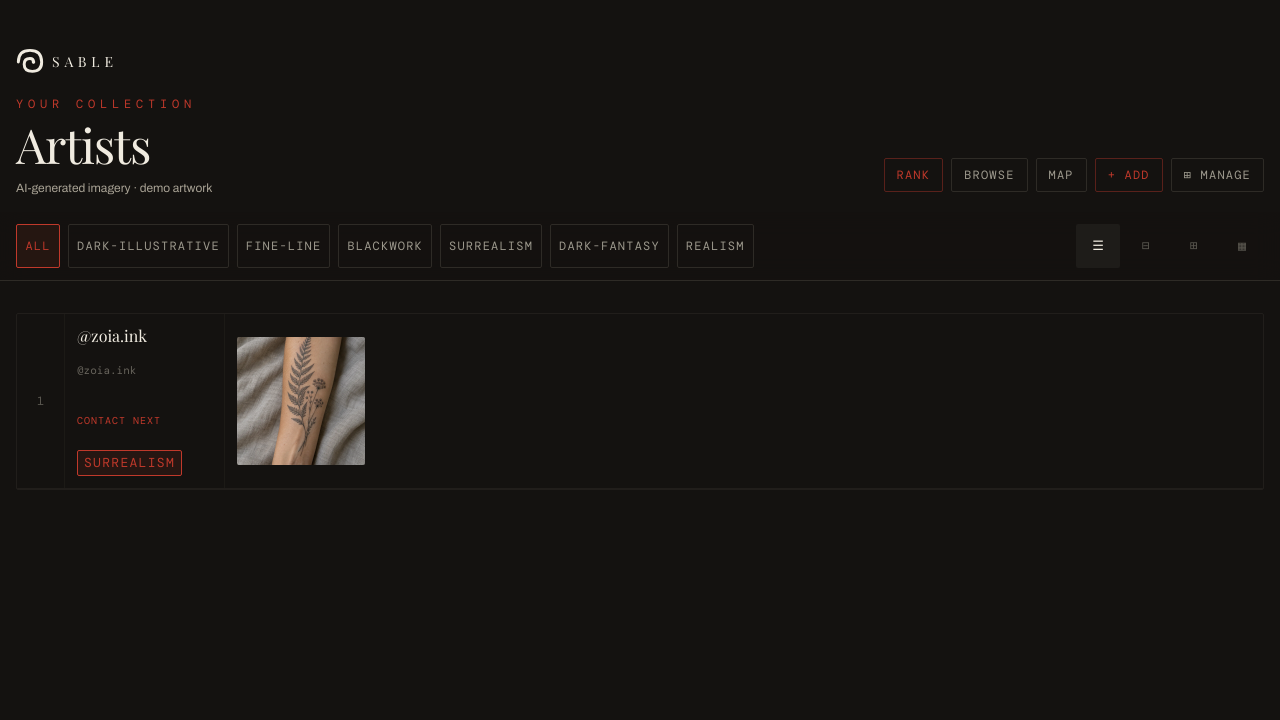
Test: Gallery manage mode › keeps the generated-art notice visible inside Browse
Click the button "Browse" at (989, 175), box x1=951 y1=158 x2=1028 y2=192
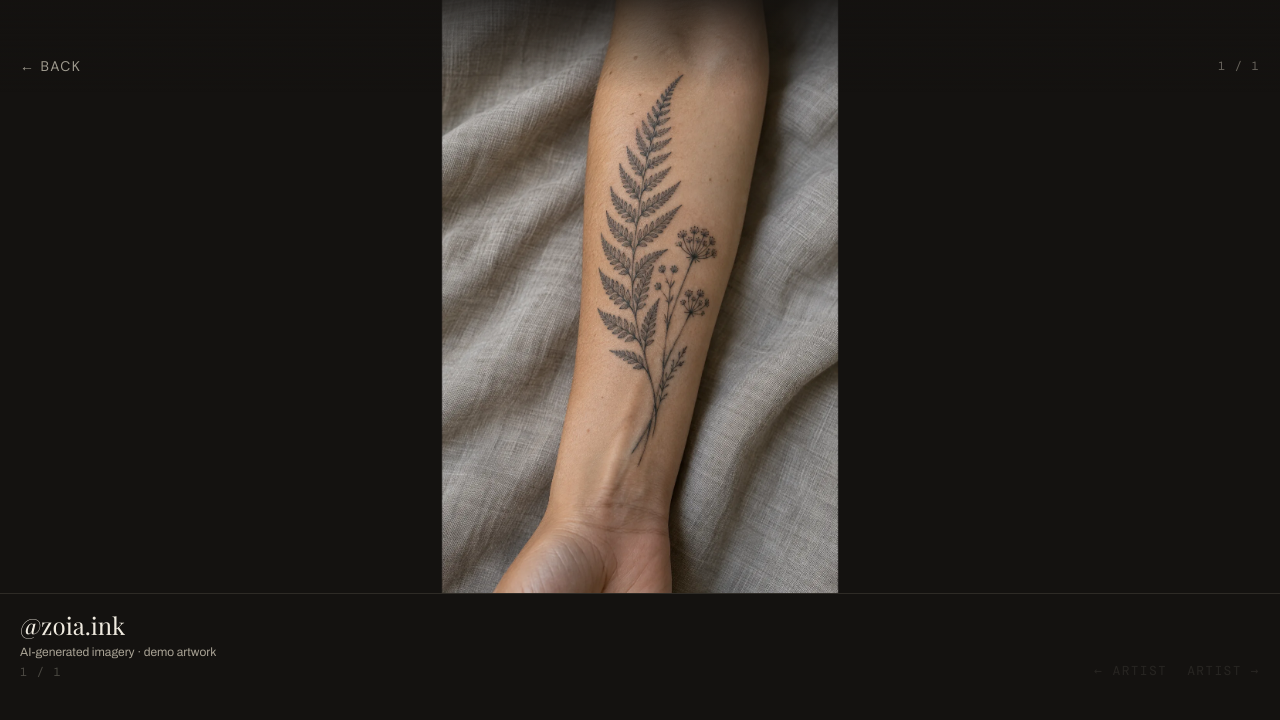
Result: the text "AI-generated imagery · demo artwork" is shown at x1=20 y1=644 x2=216 y2=660
